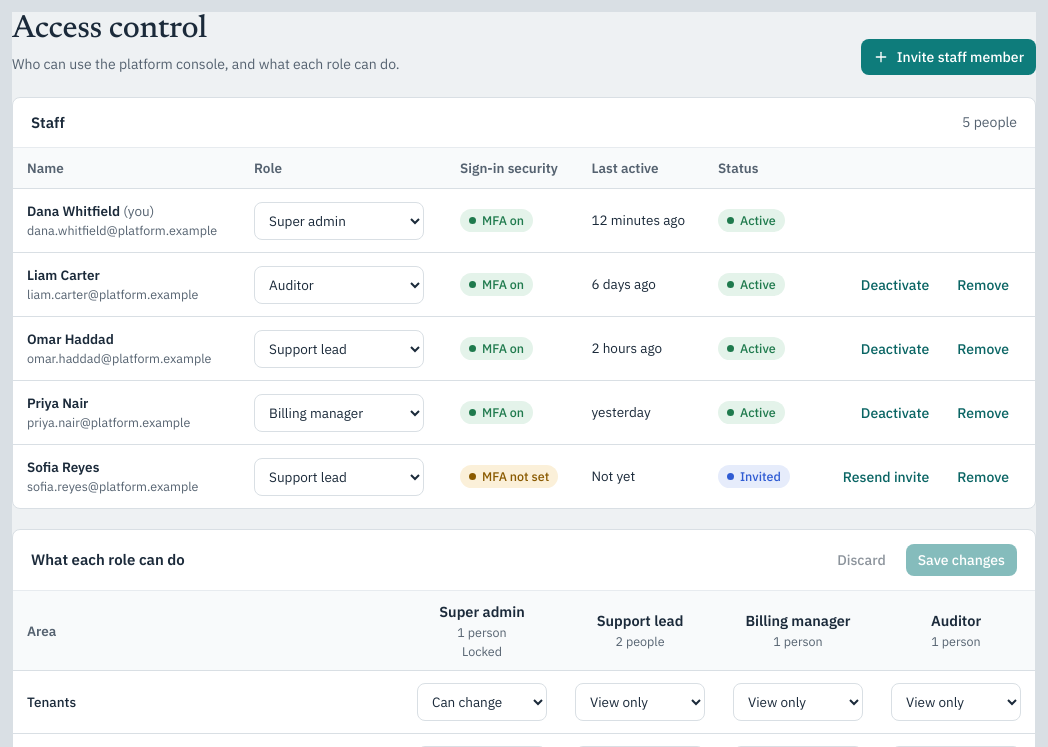
Test: row actions › resends an invitation without asking, and says so
Expected: the column heading "Super admin 1 person Locked" is shown, [403, 591, 561, 671]
Click the button named "Resend invite Sofia Reyes".
click(886, 477)  # box [831, 461, 941, 493]
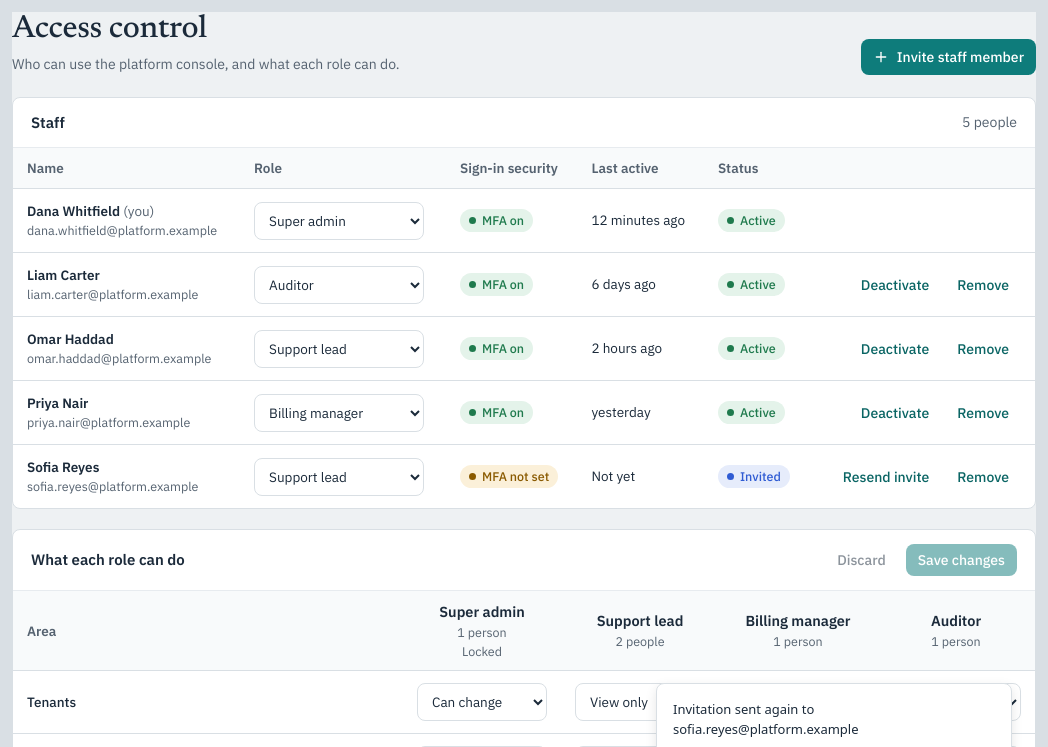
Result: the text "Invitation sent again to sofia.reyes@platform.example" is shown at [673, 700, 858, 738]
